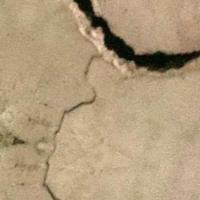crack: (61, 0, 199, 99)
